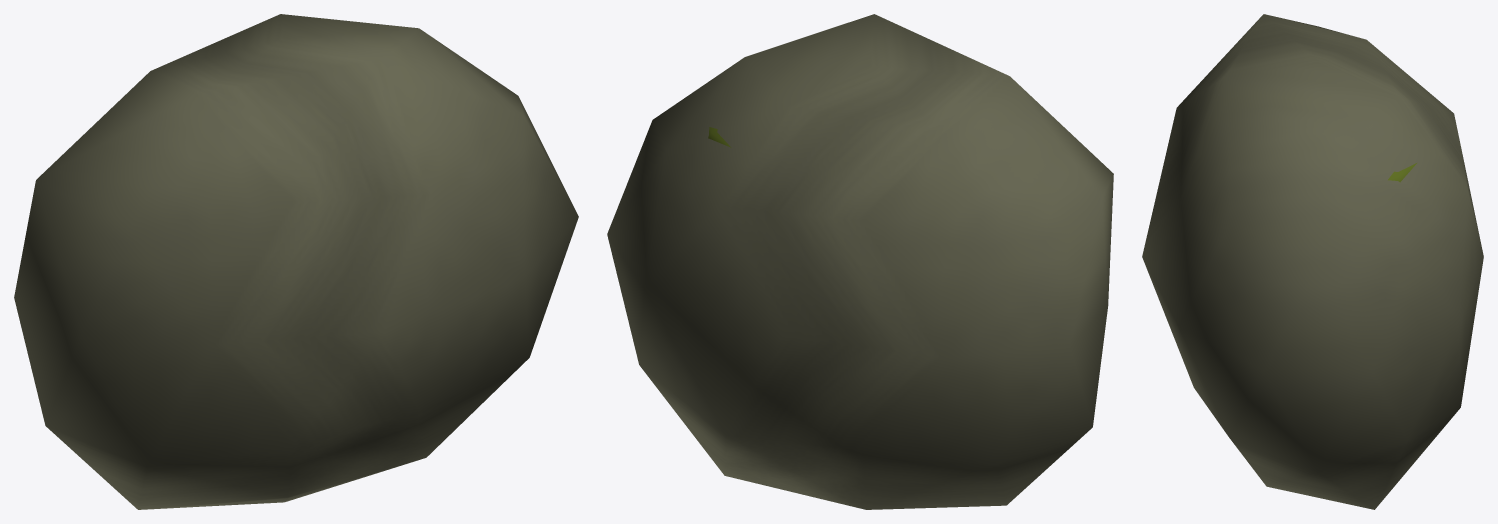
File: Rock_3.fbx
The picture shows the model from 3 angles, left to right: view 1: azimuth 30°, elevation 25°; view 2: azimuth 150°, elevation 25°; view 3: azimuth 270°, elevation 25°; orthographic projection. The views are drawn at different scales.
Visible parts, largest first — view 1: Rock_3; view 2: Rock_3; view 3: Rock_3.
Part boxes in pixels (<box>): Rock_3: <box>14,14,578,509</box>; Rock_3: <box>607,14,1113,509</box>; Rock_3: <box>1142,14,1483,509</box>.
Bounding box in the file's own units: 87.73 × 76.97 × 57.35.
Materials: 1 (1 with a texture image).
